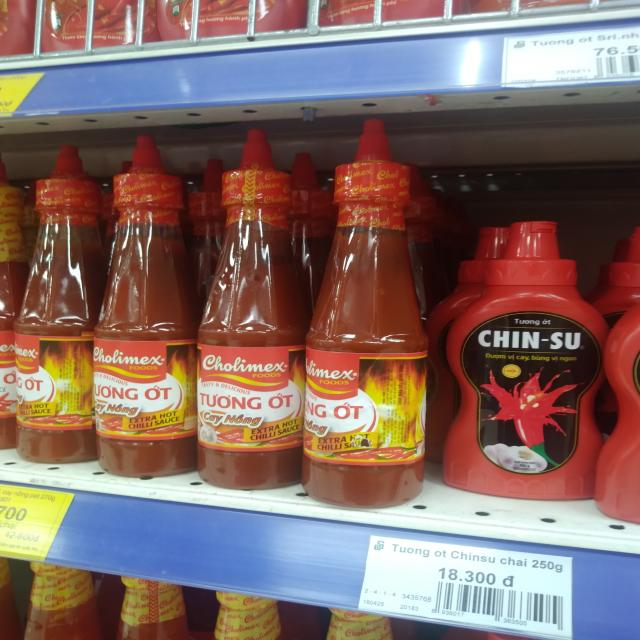tuong ot chinsu: (444, 215, 611, 508)
